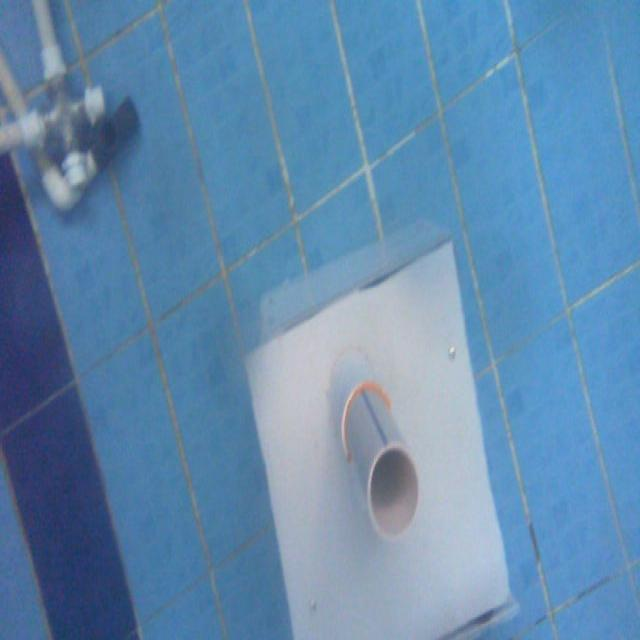Cube: (239, 222, 518, 638)
